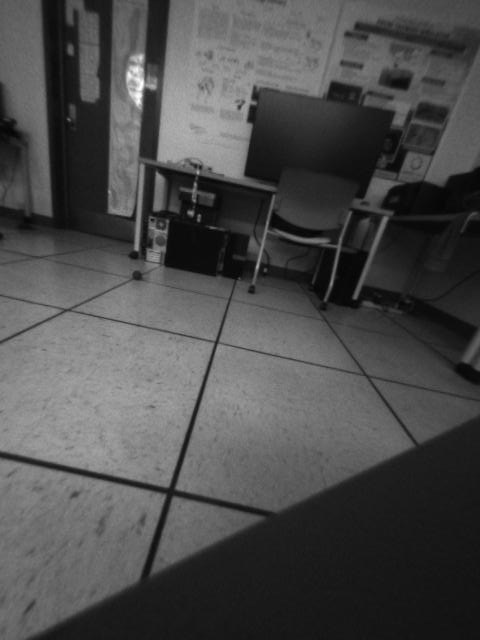dogtoy: (125, 263, 148, 285)
